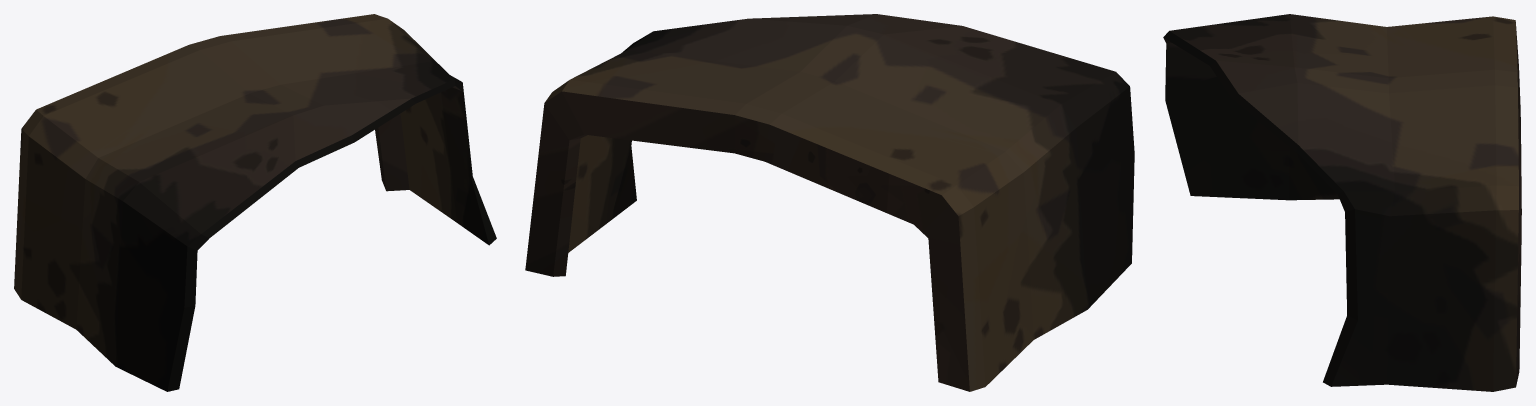
The model's file is SM_Veh_Truck_01_Canopy_Destroyed.fbx.
3 views of the same model, side by side, from view 1: azimuth 30°, elevation 25°; view 2: azimuth 150°, elevation 25°; view 3: azimuth 270°, elevation 25° (orthographic). The views are drawn at different scales.
Parts seen in each view (by area): view 1: SM_Veh_Truck_01_Canopy_Destroyed; view 2: SM_Veh_Truck_01_Canopy_Destroyed; view 3: SM_Veh_Truck_01_Canopy_Destroyed.
Boxes of the visible parts, box(x1,y1,x2,y2) form: SM_Veh_Truck_01_Canopy_Destroyed: box(14, 14, 496, 391); SM_Veh_Truck_01_Canopy_Destroyed: box(525, 14, 1134, 391); SM_Veh_Truck_01_Canopy_Destroyed: box(1163, 14, 1521, 391).
Size of the model in its own units: 279 by 138 by 199.
